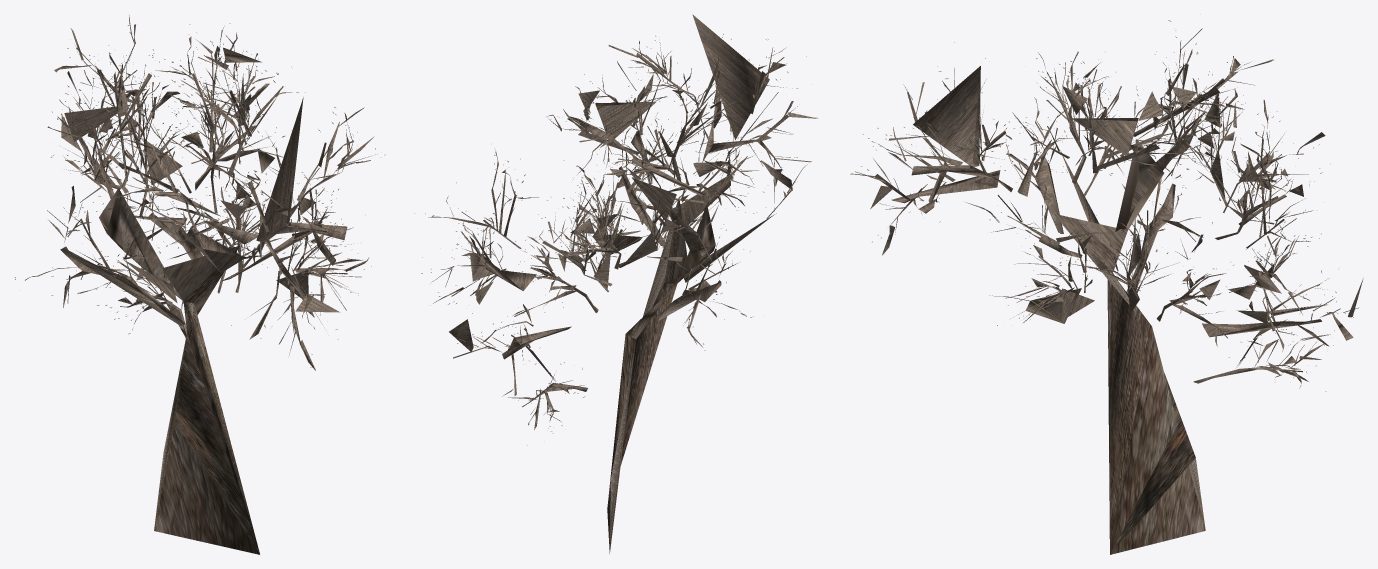
The model's file is broadleaf-medium.glb.
The picture shows the model from 3 angles, left to right: view 1: azimuth 30°, elevation 25°; view 2: azimuth 150°, elevation 25°; view 3: azimuth 270°, elevation 25°; orthographic projection. The views are drawn at different scales.
Visible parts, largest first — view 1: tree_small_02_LOD0 baked baked; view 2: tree_small_02_LOD0 baked baked; view 3: tree_small_02_LOD0 baked baked.
Part boxes in pixels (x1,y1,x2,y2): tree_small_02_LOD0 baked baked: [15, 15, 385, 554]; tree_small_02_LOD0 baked baked: [421, 14, 818, 553]; tree_small_02_LOD0 baked baked: [850, 20, 1363, 554].
Bounding box in the file's own units: 2.73 × 4.24 × 4.14.
3 materials, 3 textured.
